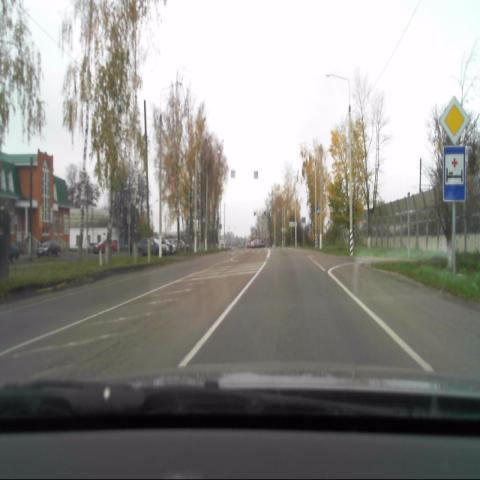7_2: (442, 146, 466, 204)
